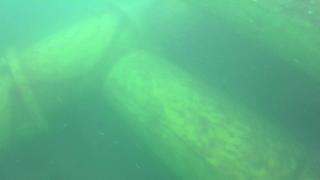pipe: (101, 47, 320, 180), (1, 11, 151, 144), (186, 1, 320, 78)
